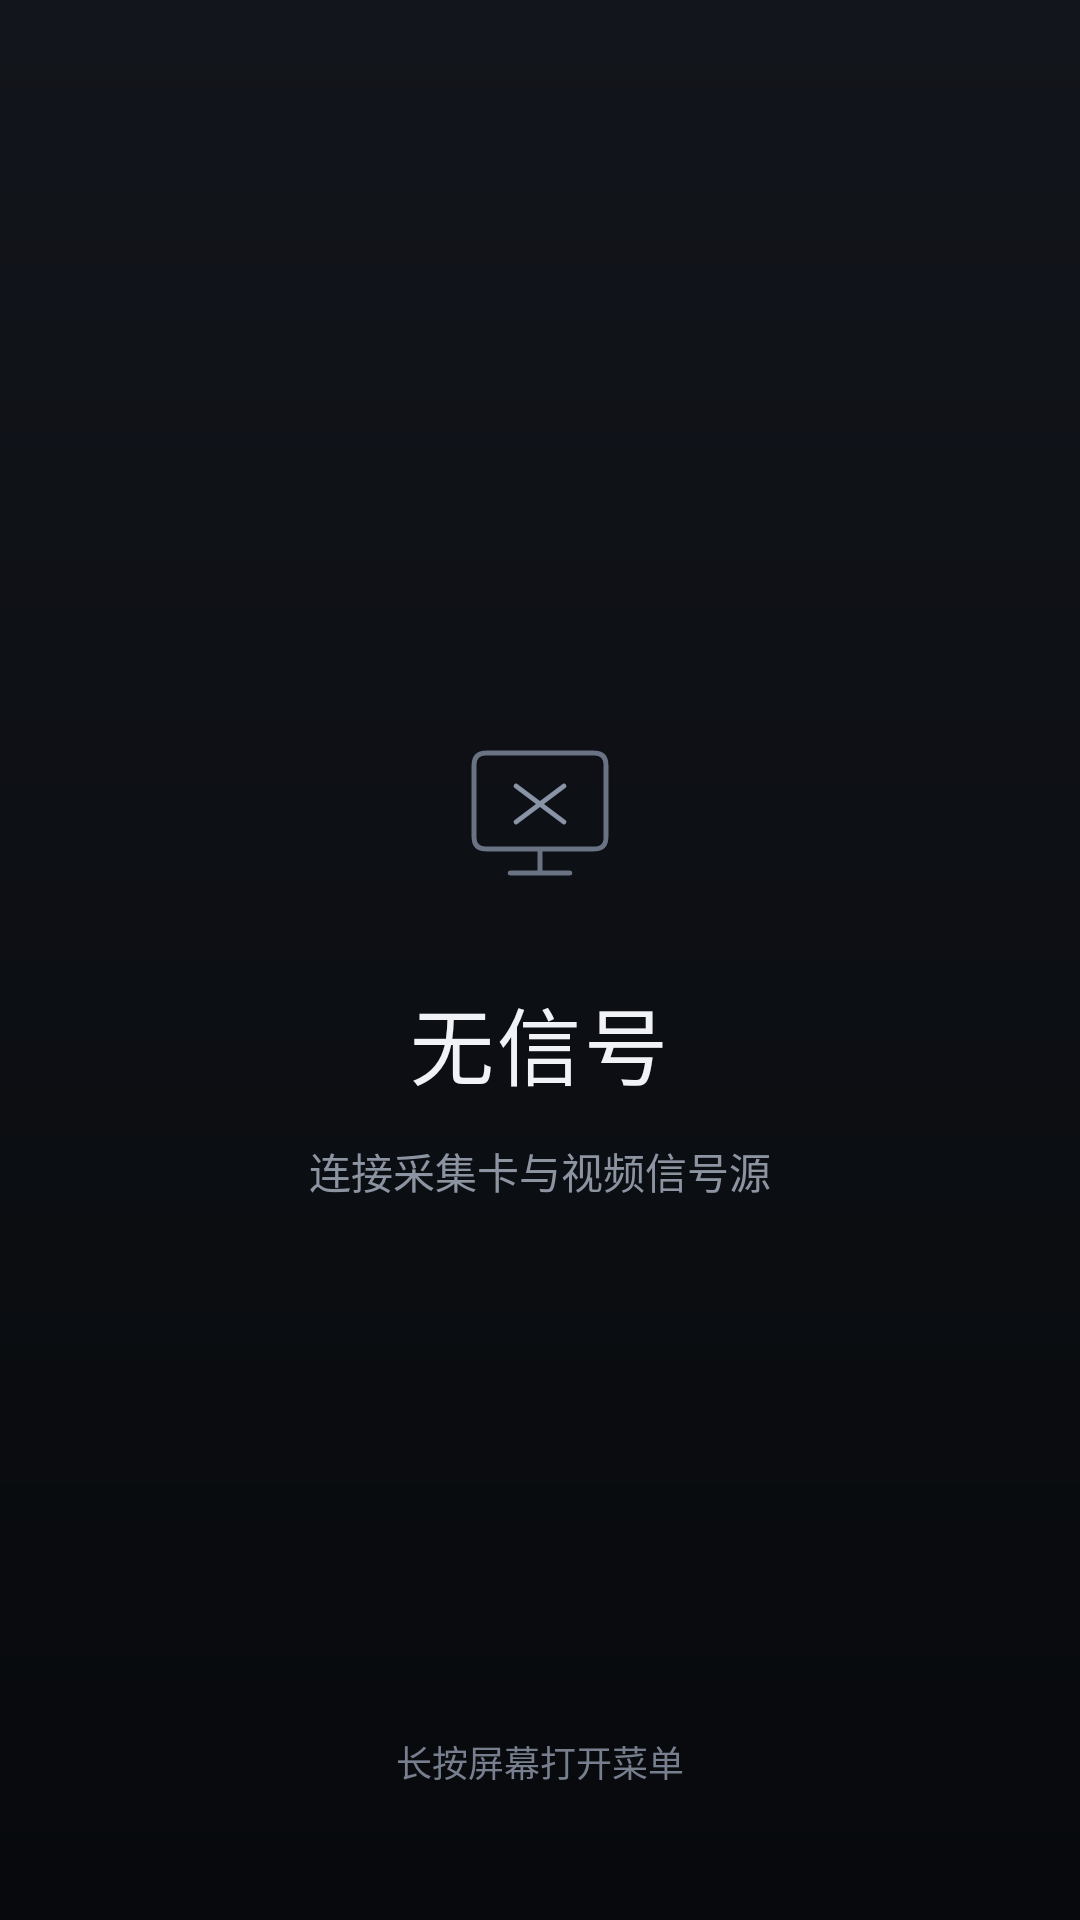

Screen size 1080w x 1920h. Icon name, then its box in pixels as region(x1, y1, x2, y2):
no signal: region(471, 750, 609, 876)
